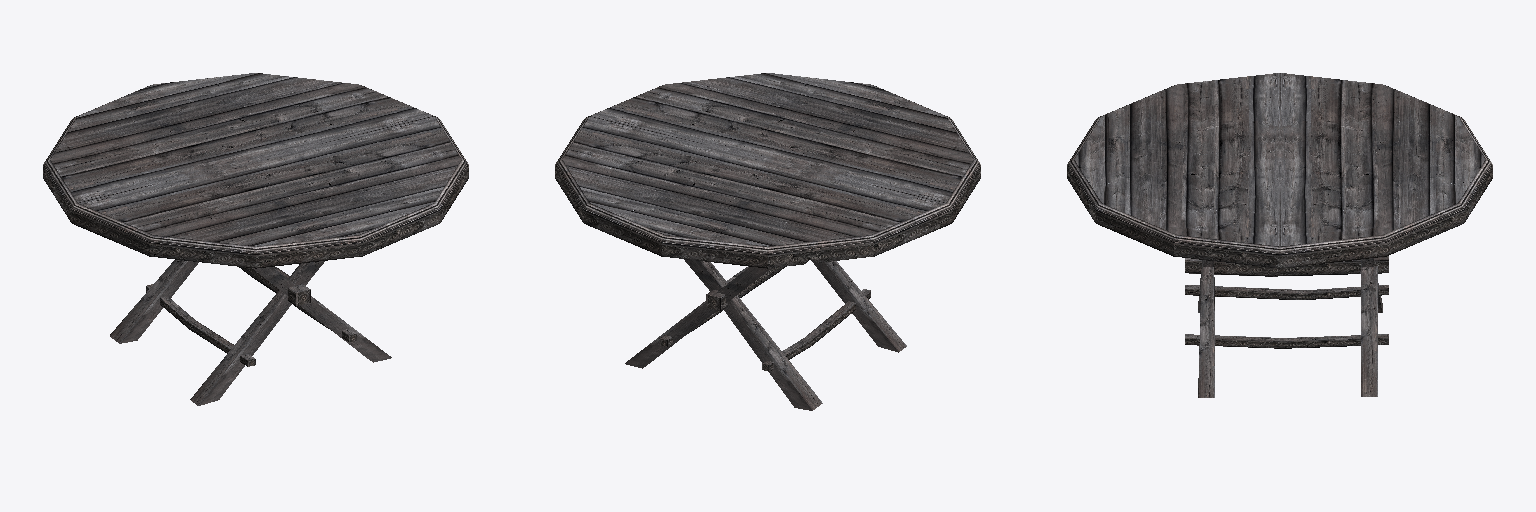
The picture shows the model from 3 angles: view 1: azimuth 30°, elevation 25°; view 2: azimuth 150°, elevation 25°; view 3: azimuth 270°, elevation 25°; orthographic projection.
Visible parts, largest first — view 1: Default_Layer; view 2: Default_Layer; view 3: Default_Layer.
Boxes of the visible parts, <box> form: Default_Layer: <box>43,73,468,405</box>; Default_Layer: <box>555,73,980,410</box>; Default_Layer: <box>1067,73,1492,397</box>.
Size of the model in its own units: 7.57 by 3.78 by 7.57.
Materials: 1 (1 with a texture image).